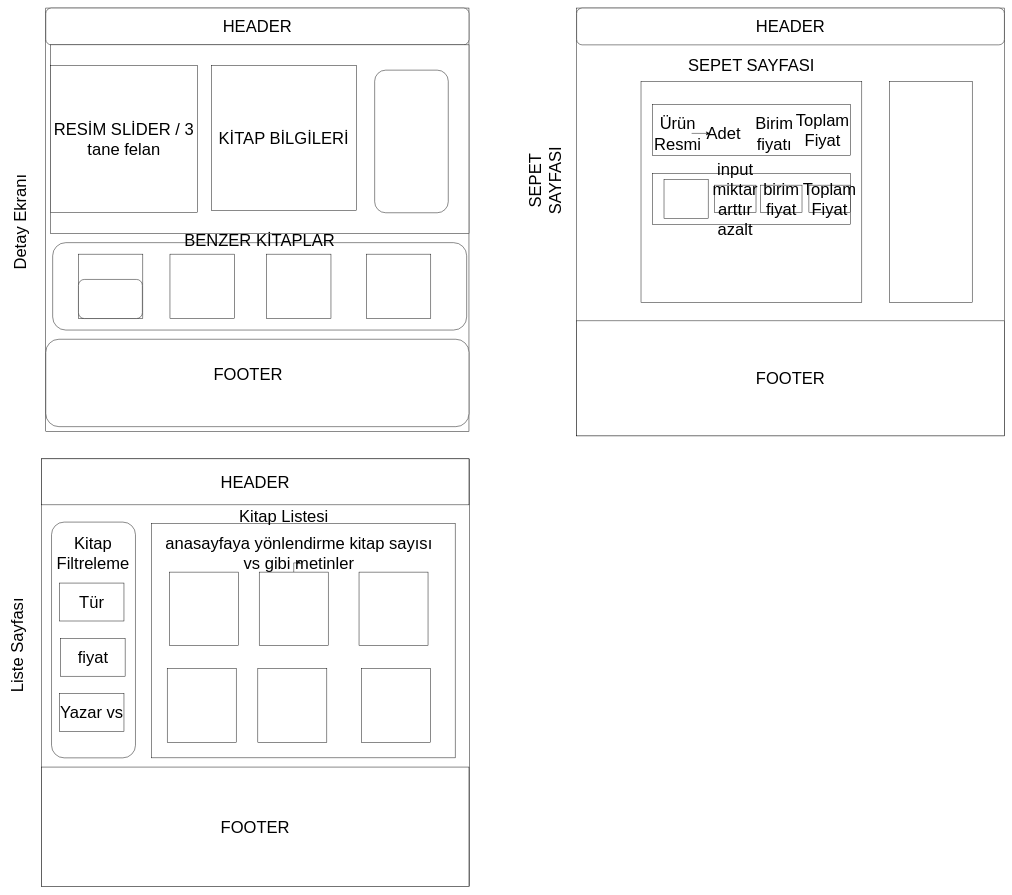
Image size: 1012x895. Some labels were removed from this diagram. Here are the shapes that lost their labels. From the top down, the centre of each, then its label:
At [411,141]: "sepete ekle adet".
At [686,198]: "Resim".
At [930,191]: "Toplam fiyat kdv kargo vs bilgileri ve satın al butonu".
At [110,299]: "hover /info".
